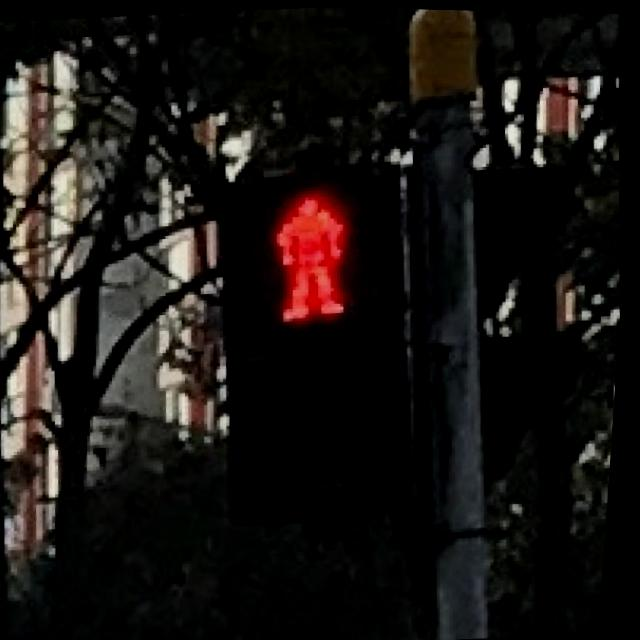red_light: (236, 168, 380, 330)
